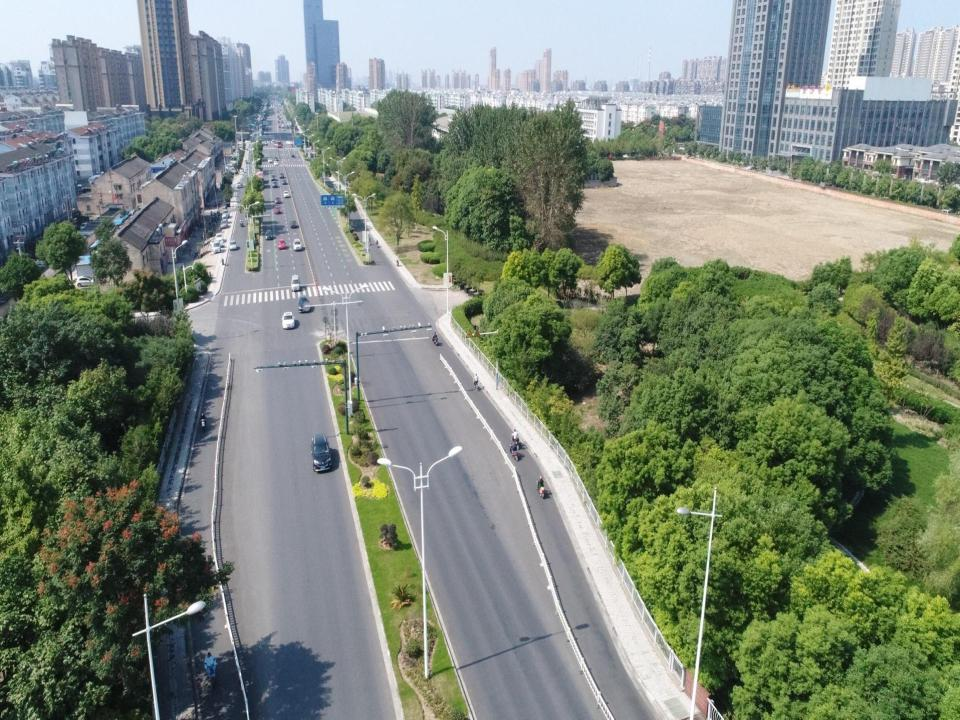bus: (273, 139, 284, 148)
car: (308, 434, 333, 472), (281, 309, 294, 329), (291, 273, 301, 292), (298, 297, 310, 310), (212, 239, 221, 255), (215, 233, 224, 245), (219, 218, 227, 230), (277, 238, 285, 248), (228, 240, 236, 250), (266, 228, 272, 240), (294, 240, 301, 250), (273, 204, 280, 214), (274, 196, 280, 204), (222, 210, 228, 216), (270, 174, 276, 180), (280, 171, 284, 180), (291, 219, 296, 226), (284, 190, 289, 197), (267, 157, 272, 164), (291, 152, 295, 159), (283, 178, 287, 184), (272, 182, 278, 184), (274, 160, 277, 164)
